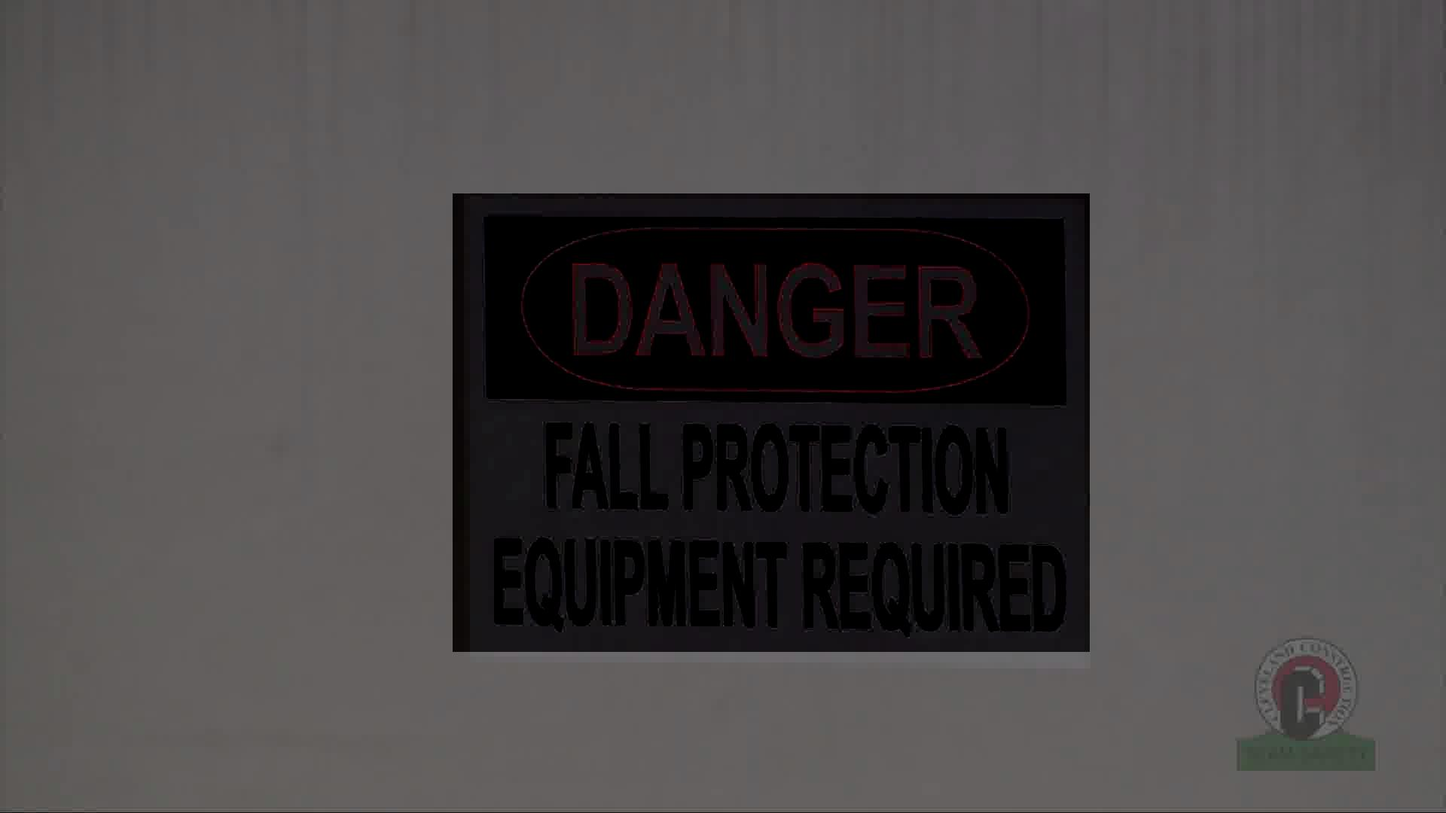safety_signage: (453, 193, 1090, 652)
